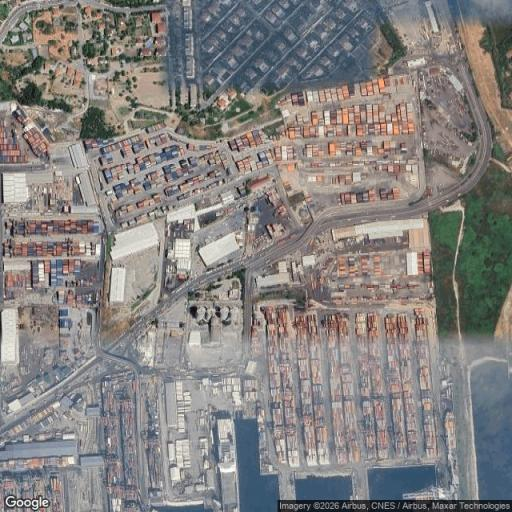ship: (217, 419, 239, 511)
